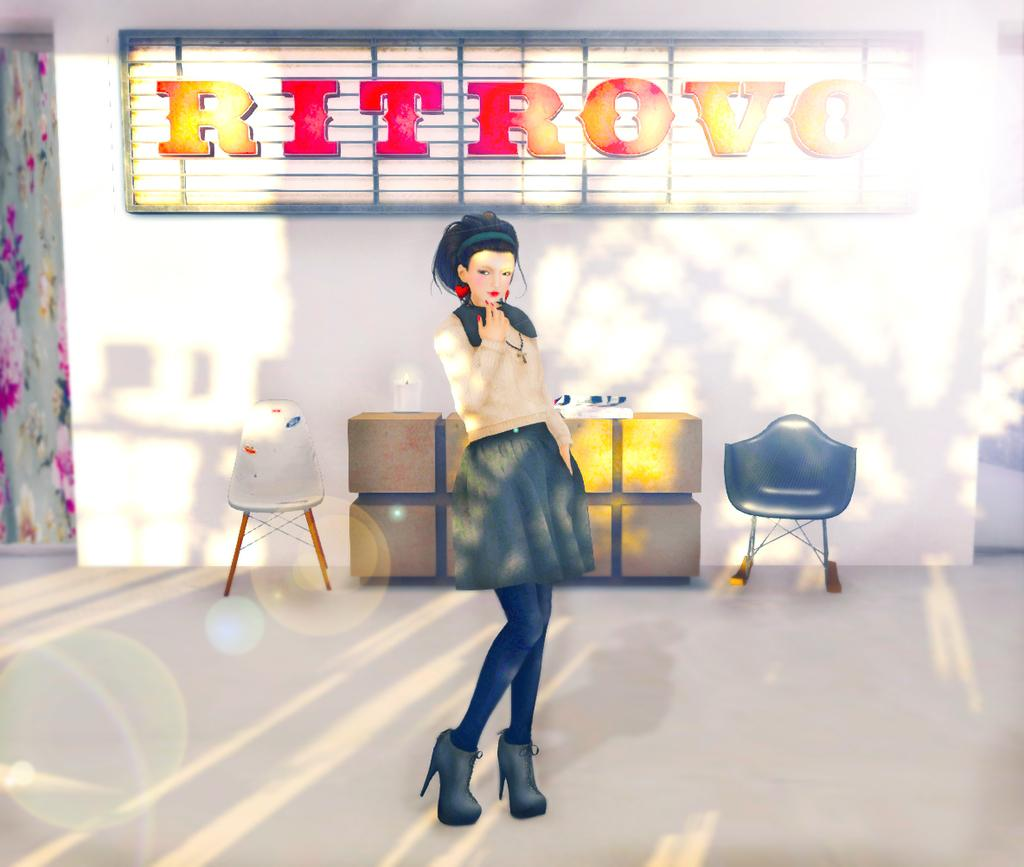Chair: (715, 407, 862, 598), (218, 397, 334, 596)
